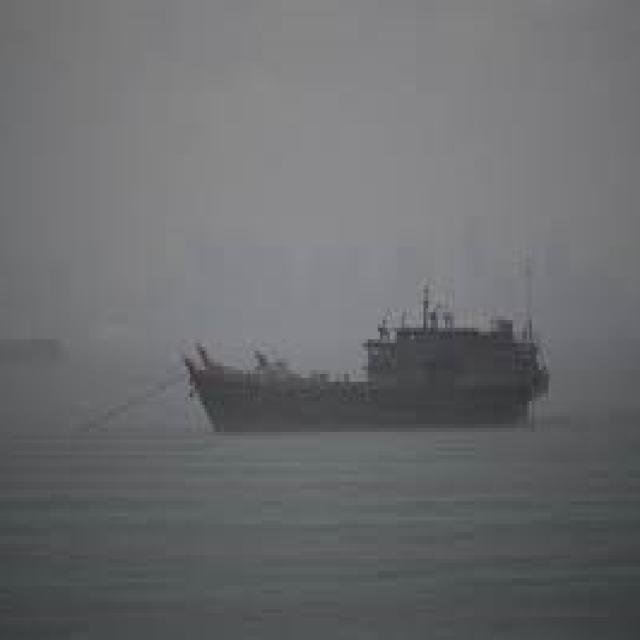fishing boat: (184, 286, 555, 444)
